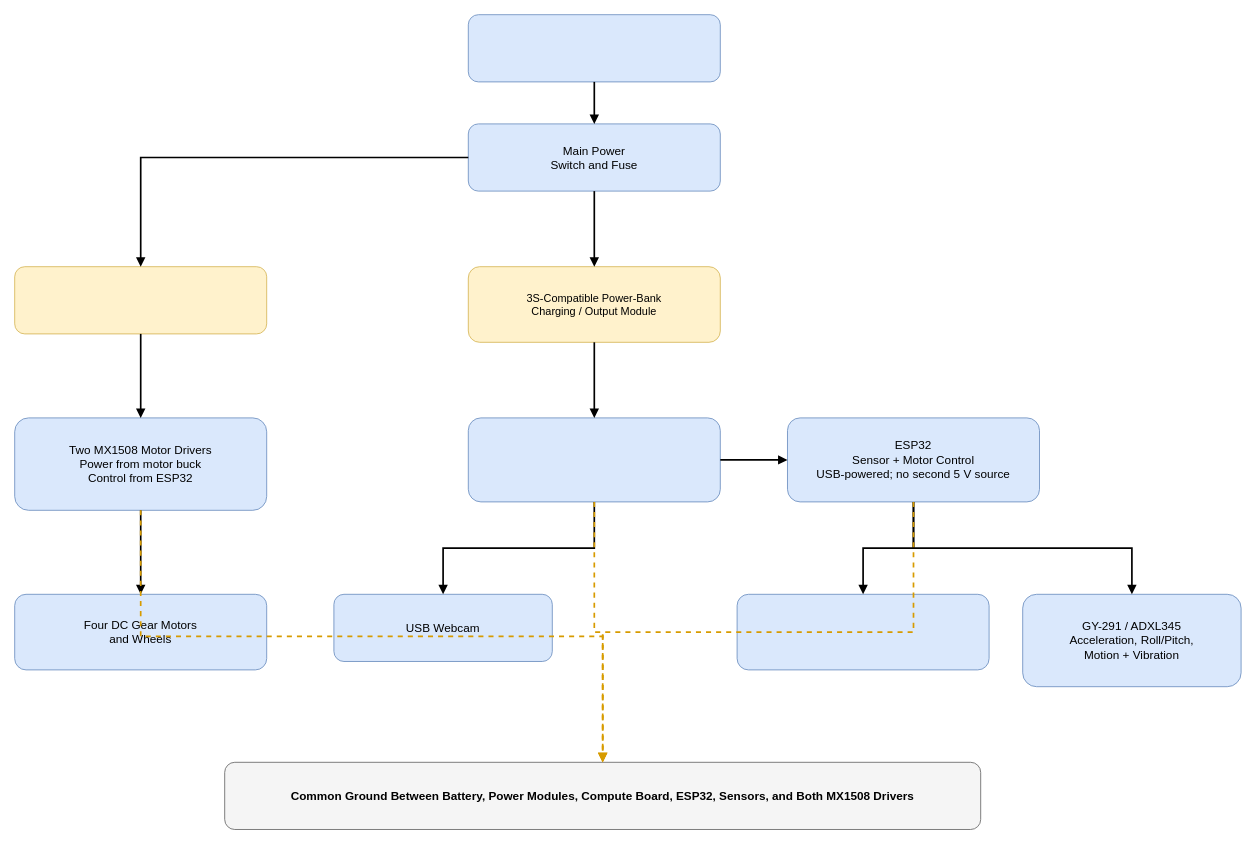
Image size: 1256x844. Some labels were removed from this diagram. Each missing label, with the centre of its shape:
3S 18650 Battery Pack: the point at 593,48
Adjustable Motor Buck Converter: the point at 140,300
Raspberry Pi 4 Onboard Compute USB power + serial to ESP32: the point at 593,459
Two HC-SR04 Sensors Front Left + Front Right: the point at 862,631
